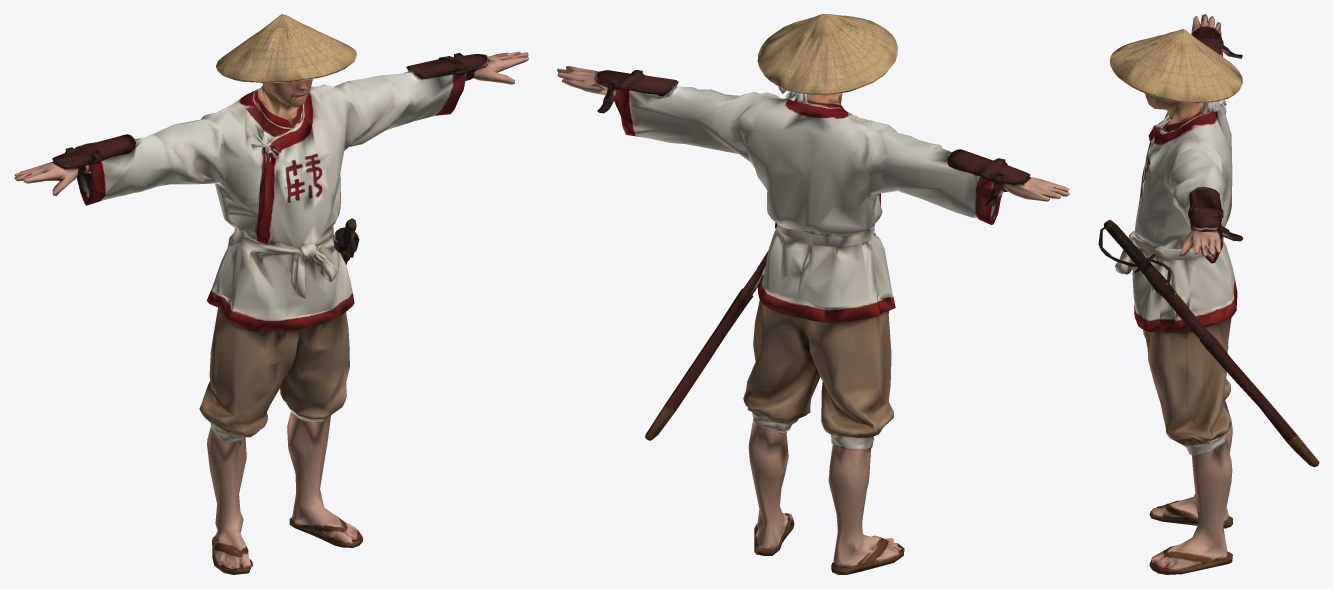
The model's file is guard-1.glb.
The picture shows the model from 3 angles, left to right: view 1: azimuth 30°, elevation 25°; view 2: azimuth 150°, elevation 25°; view 3: azimuth 270°, elevation 25°; orthographic projection. The views are drawn at different scales.
Parts seen in each view (by area): view 1: tripo_node_cab92cf7-b835-414b-9025-9f30537cafd8; view 2: tripo_node_cab92cf7-b835-414b-9025-9f30537cafd8; view 3: tripo_node_cab92cf7-b835-414b-9025-9f30537cafd8.
Part boxes in pixels (<box>): tripo_node_cab92cf7-b835-414b-9025-9f30537cafd8: <box>14,14,528,574</box>; tripo_node_cab92cf7-b835-414b-9025-9f30537cafd8: <box>557,14,1069,574</box>; tripo_node_cab92cf7-b835-414b-9025-9f30537cafd8: <box>1098,14,1319,574</box>.
Size of the model in its own units: 0.9835 by 0.978 by 0.3822.
1 material, 1 textured.
